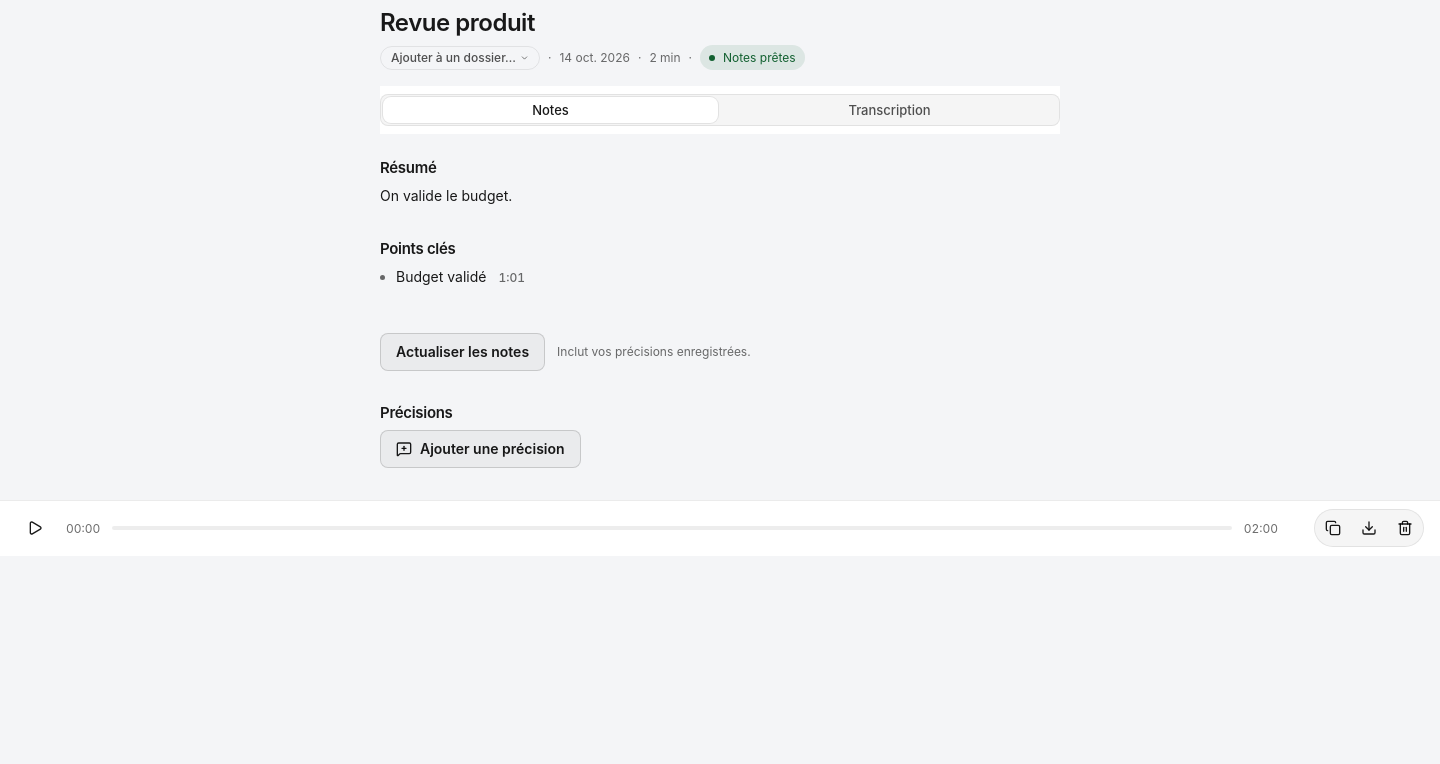
it: says in the form that a clarification could not be saved, and keeps the text
Click the button "Ajouter une précision" at (480, 449), box left=380, top=430, right=581, bottom=468
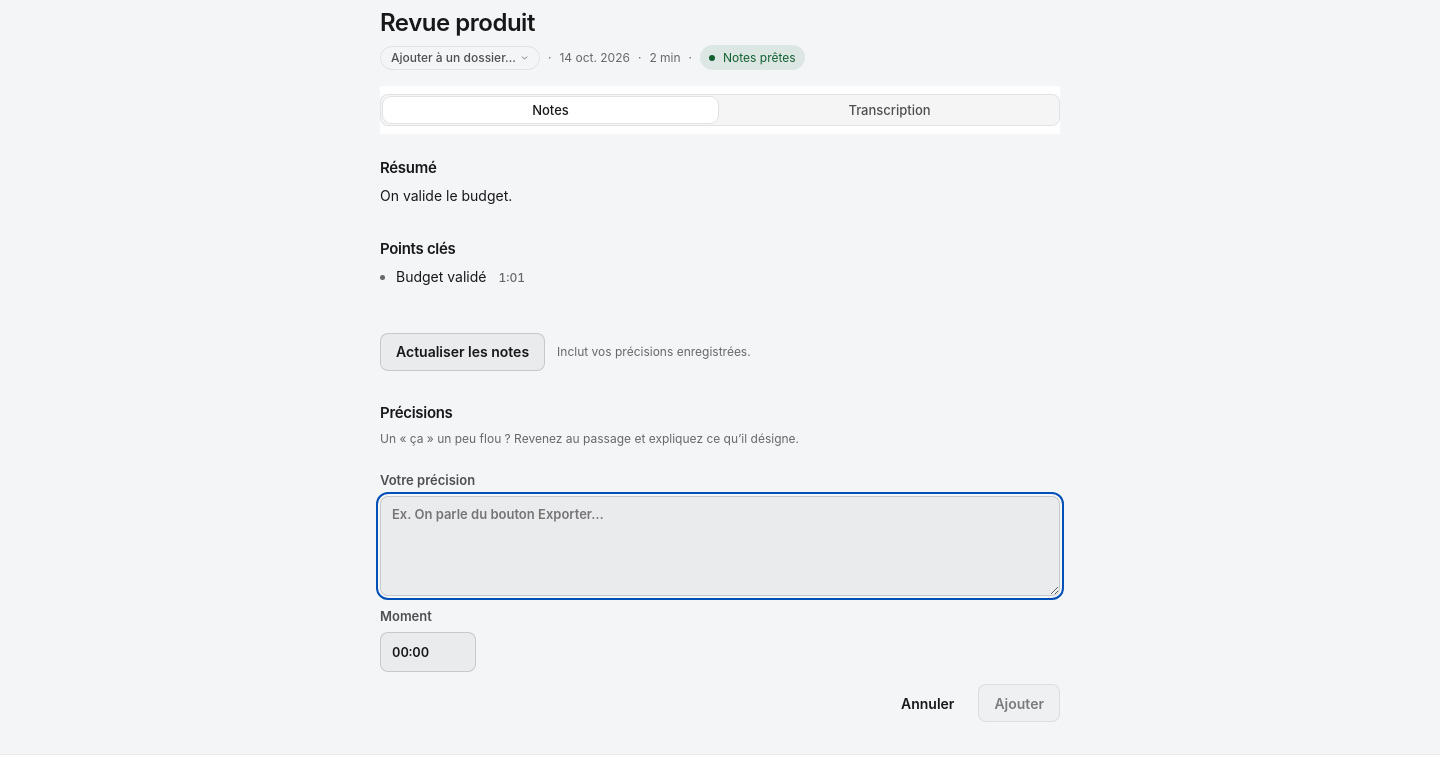
Type "Le budget 2027" into the text box labelled "Votre précision" at (720, 546), box left=380, top=496, right=1060, bottom=596
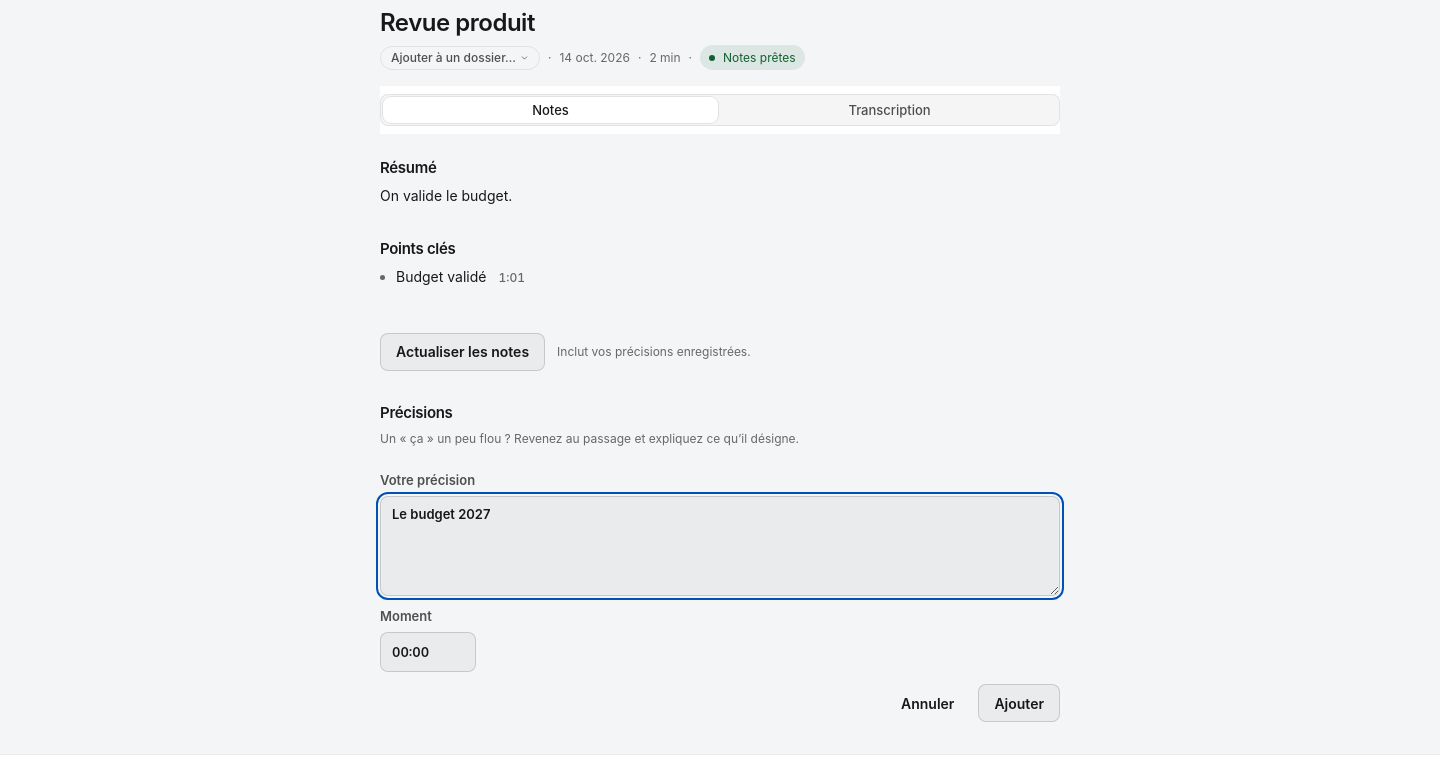
Click the button "Ajouter" at (1019, 703), box left=978, top=684, right=1060, bottom=722
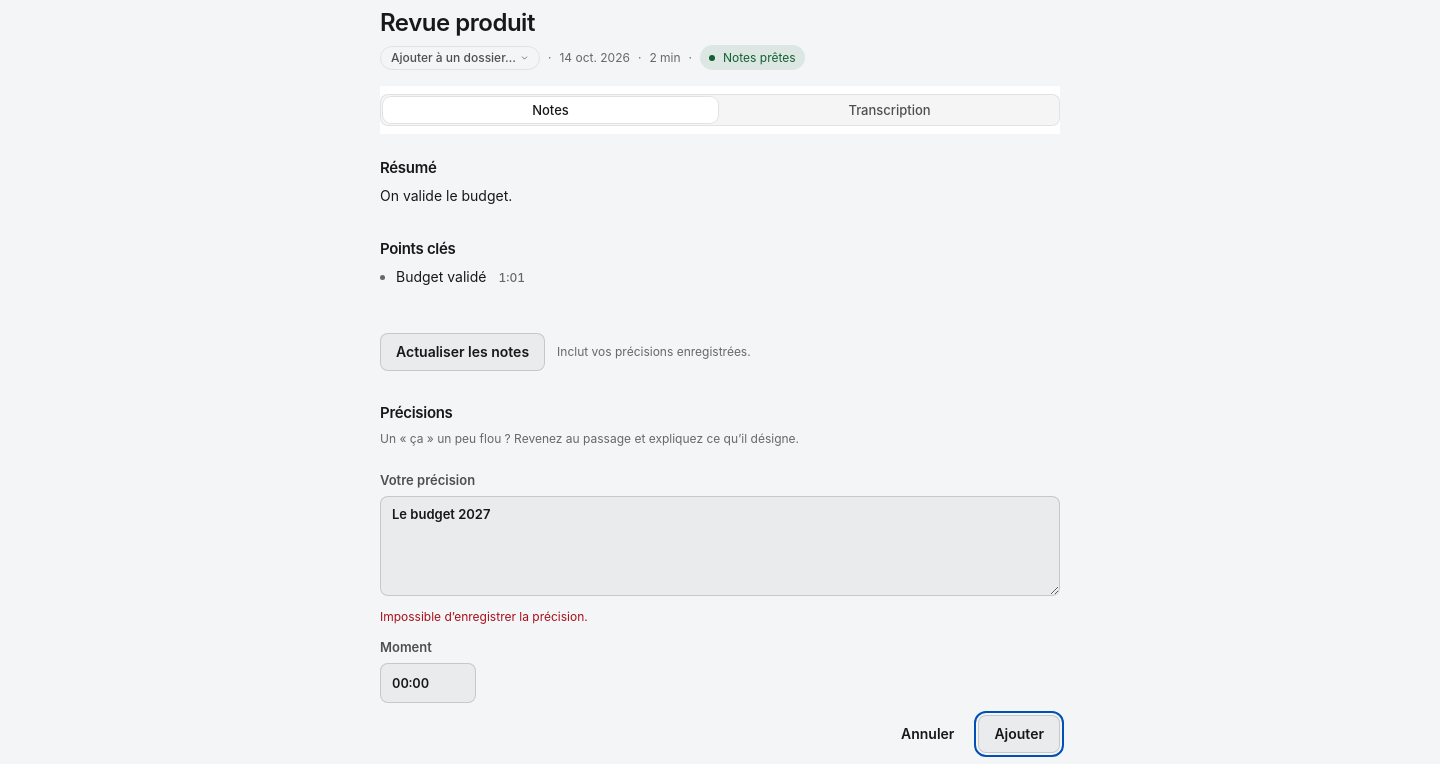
Expected: the message reads "Impossible d’enregistrer la précision.", left=380, top=609, right=588, bottom=624
